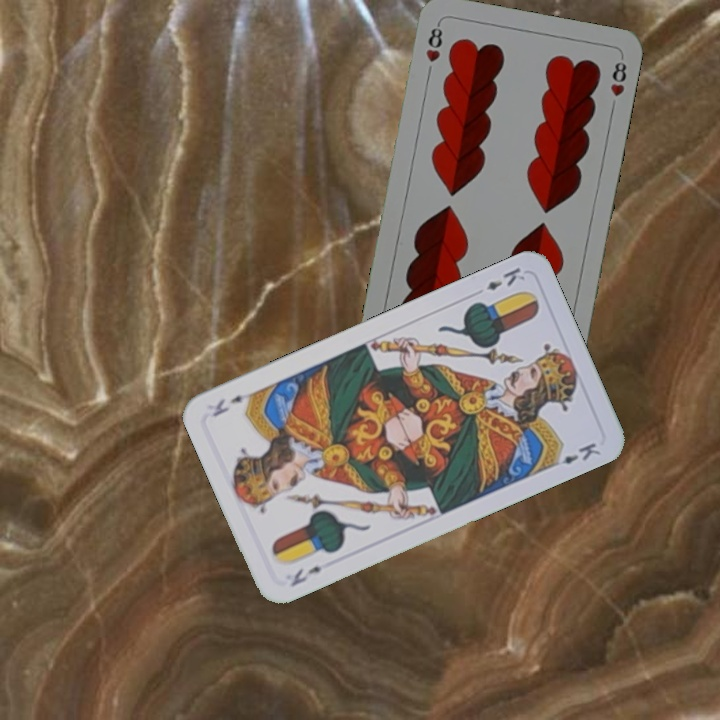EK: (482, 263, 528, 293), (286, 562, 325, 590)
H8: (422, 19, 445, 65)
